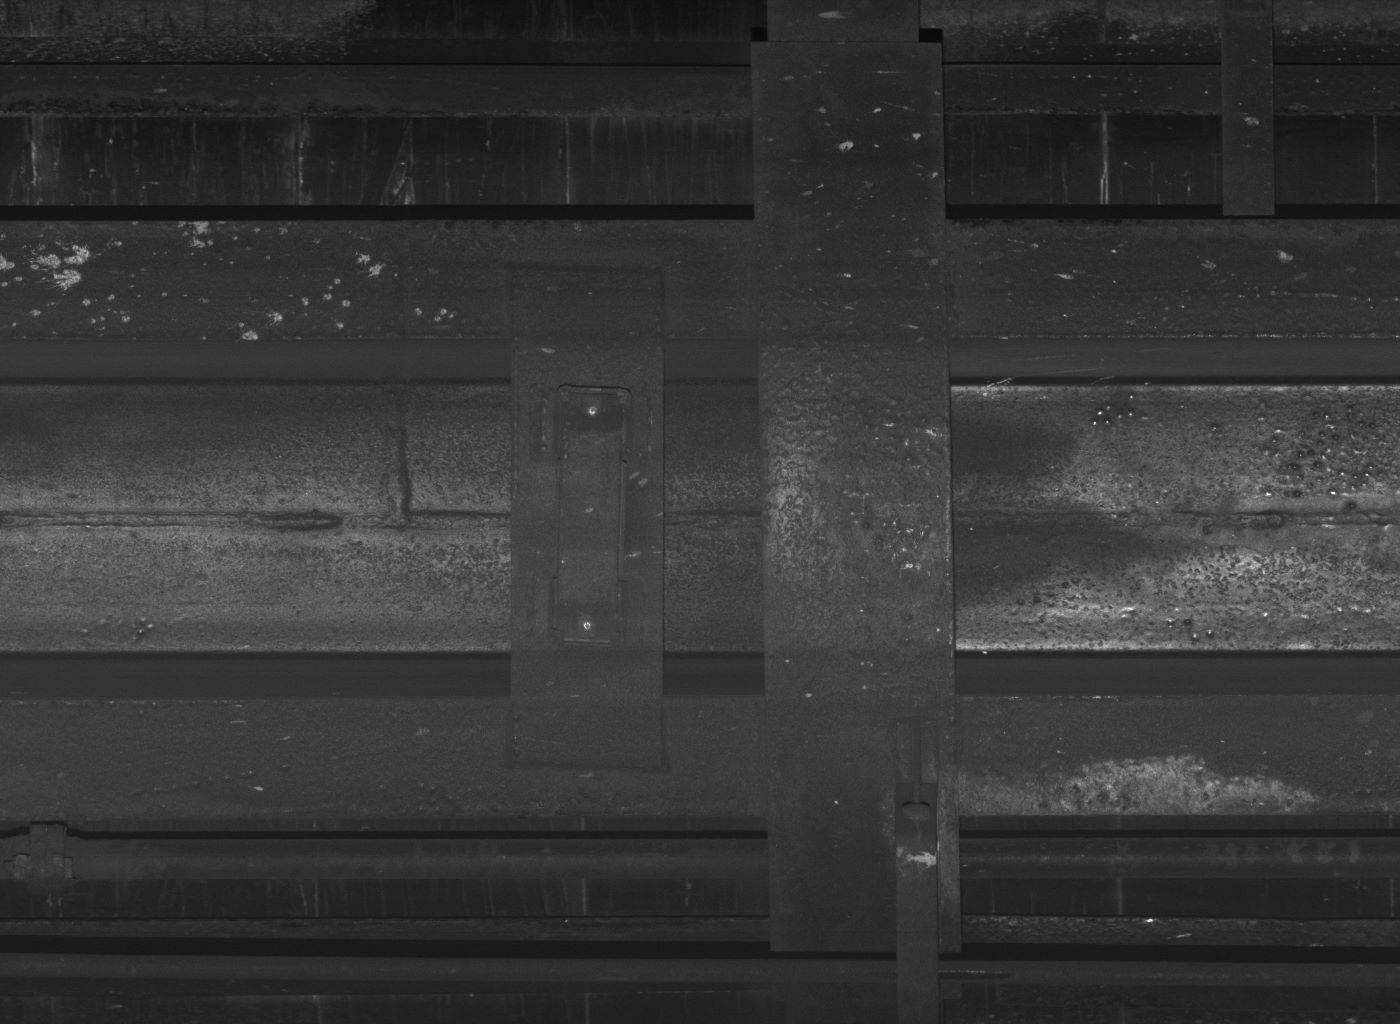normal: (893, 781, 941, 1017)
